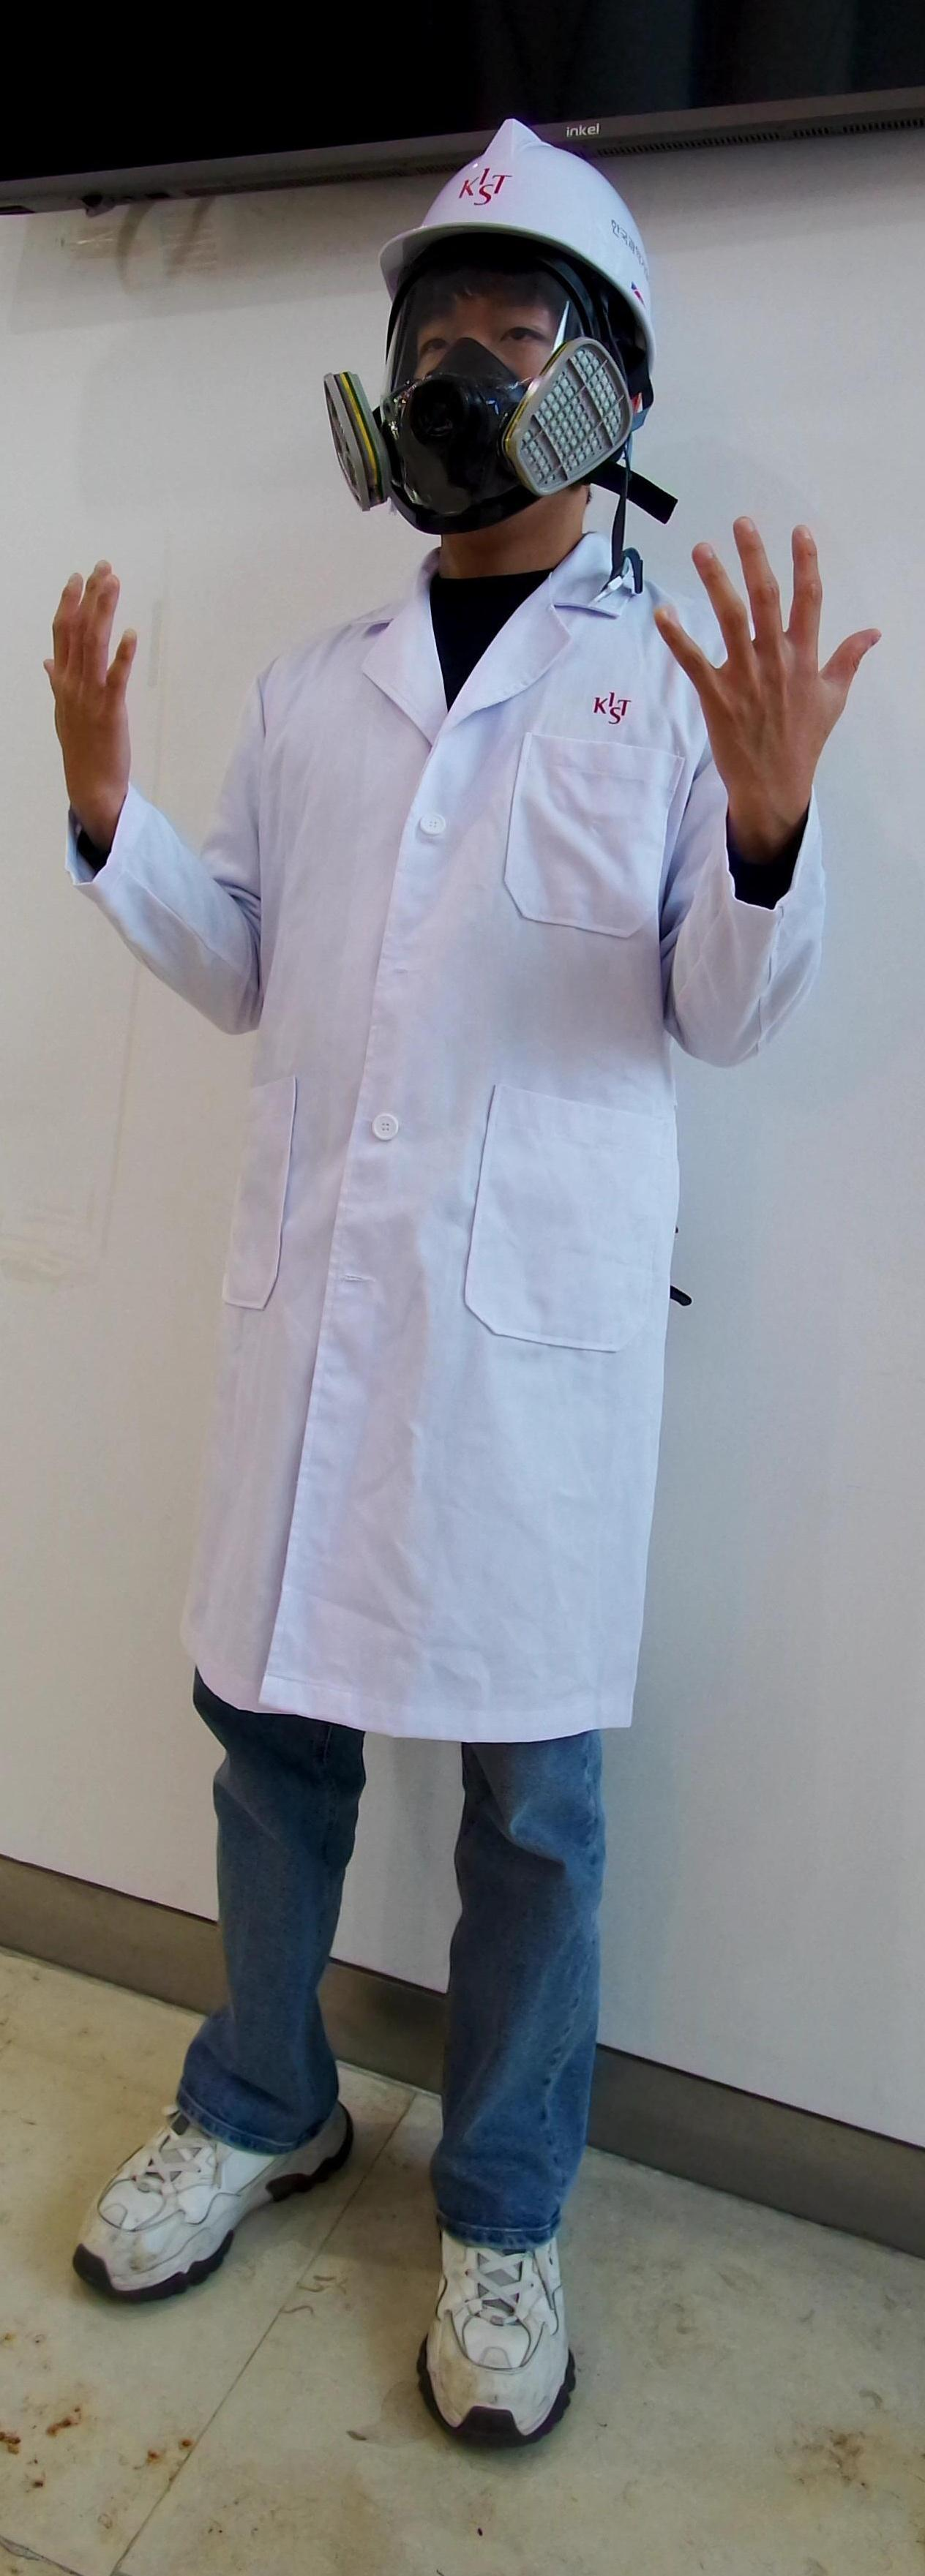lab_coat: (222, 623, 703, 1764)
